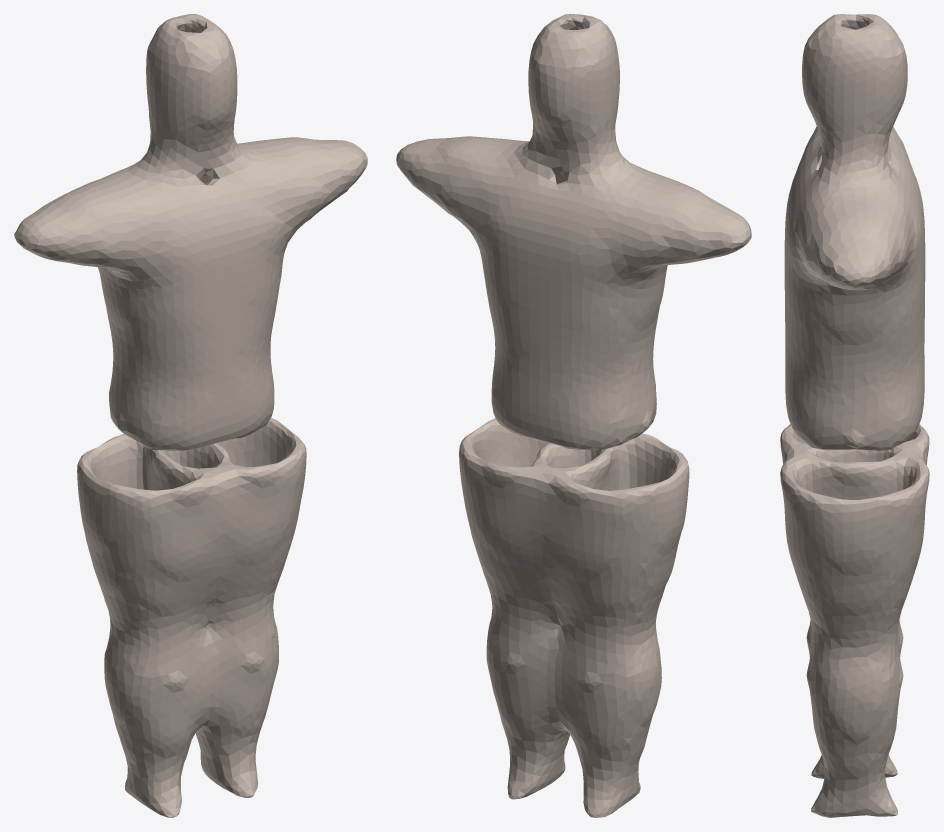
The model's file is body_mesh.glb.
3 views of the same model, side by side, from view 1: azimuth 30°, elevation 25°; view 2: azimuth 150°, elevation 25°; view 3: azimuth 270°, elevation 25° (orthographic).
Parts seen in each view (by area): view 1: world; view 2: world; view 3: world.
Part boxes in pixels (x1,y1,x2,y2): world: (14, 14, 367, 817); world: (396, 14, 751, 817); world: (780, 14, 929, 817).
Size of the model in its own units: 31.99 by 67.93 by 11.88.
